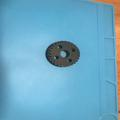gear: (45, 41, 82, 68)
